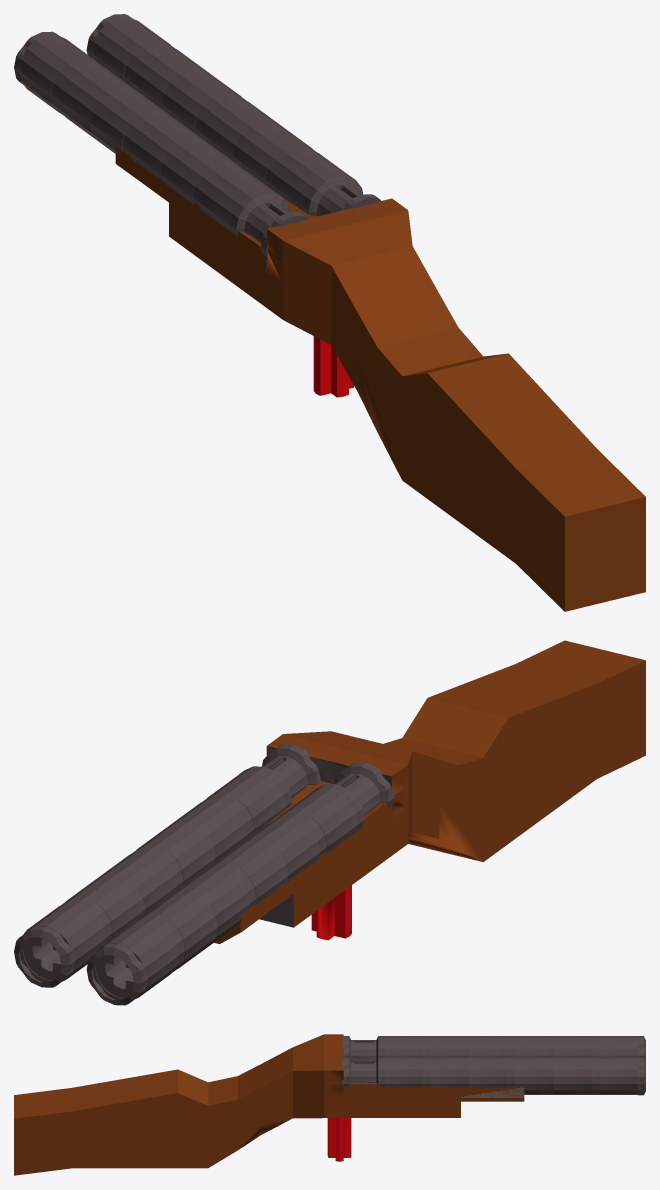
File: shotgun.fbx
3 views of the same model, one above another, from view 1: azimuth 30°, elevation 25°; view 2: azimuth 150°, elevation 25°; view 3: azimuth 270°, elevation 25° (orthographic). The views are drawn at different scales.
Parts seen in each view (by area): view 1: shotgun; view 2: shotgun; view 3: shotgun.
Boxes of the visible parts, box(x1,y1,x2,y2) form: shotgun: box(14, 14, 645, 611); shotgun: box(14, 640, 645, 1005); shotgun: box(14, 1034, 645, 1175).
Size of the model in its own units: 26.87 by 133 by 18.64.
